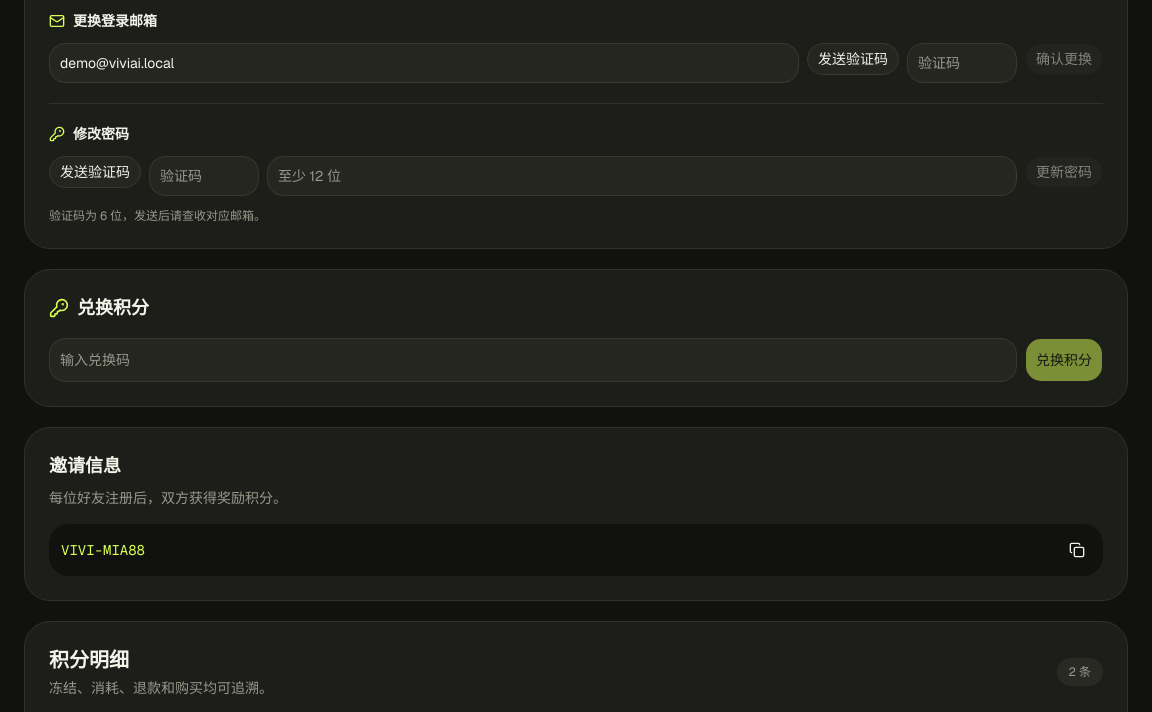
Test: account page › refreshes the baseline before submitting an edited code after an uncertain committed redemption
(page scrolled)
Type "A" into the field labelled "兑换码". click: (533, 360)
box: [49,338,1017,382]
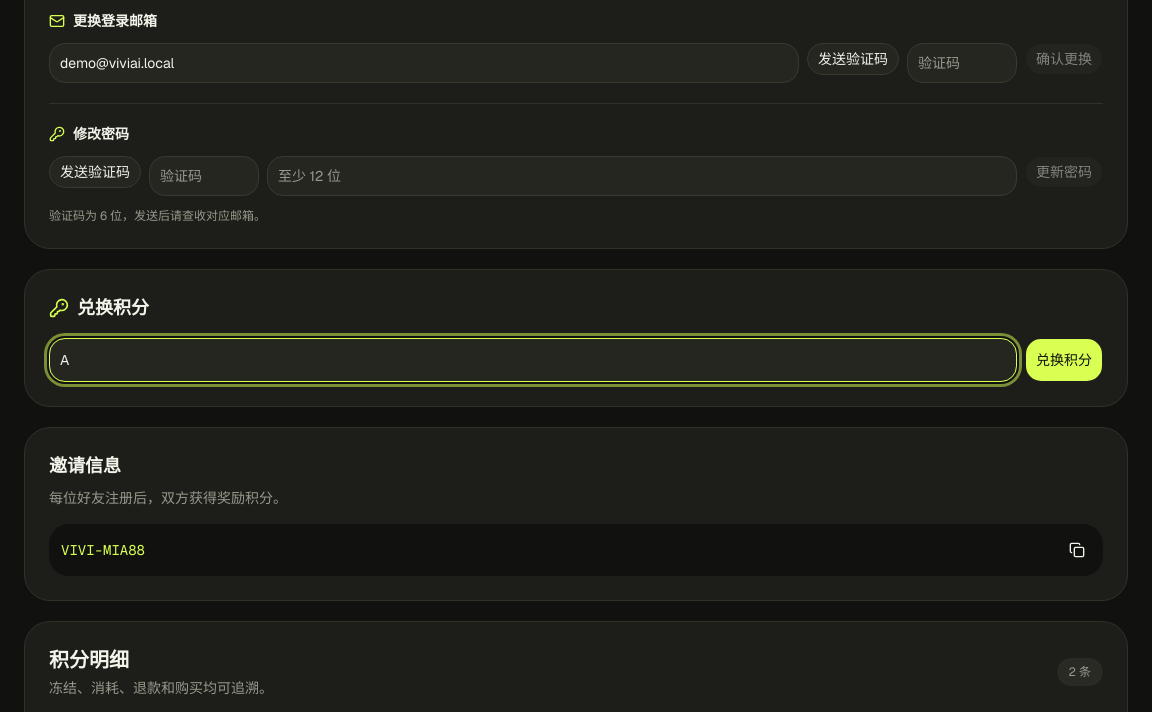
Click the button "兑换积分". click: (1064, 360)
box: [1025,338,1103,382]
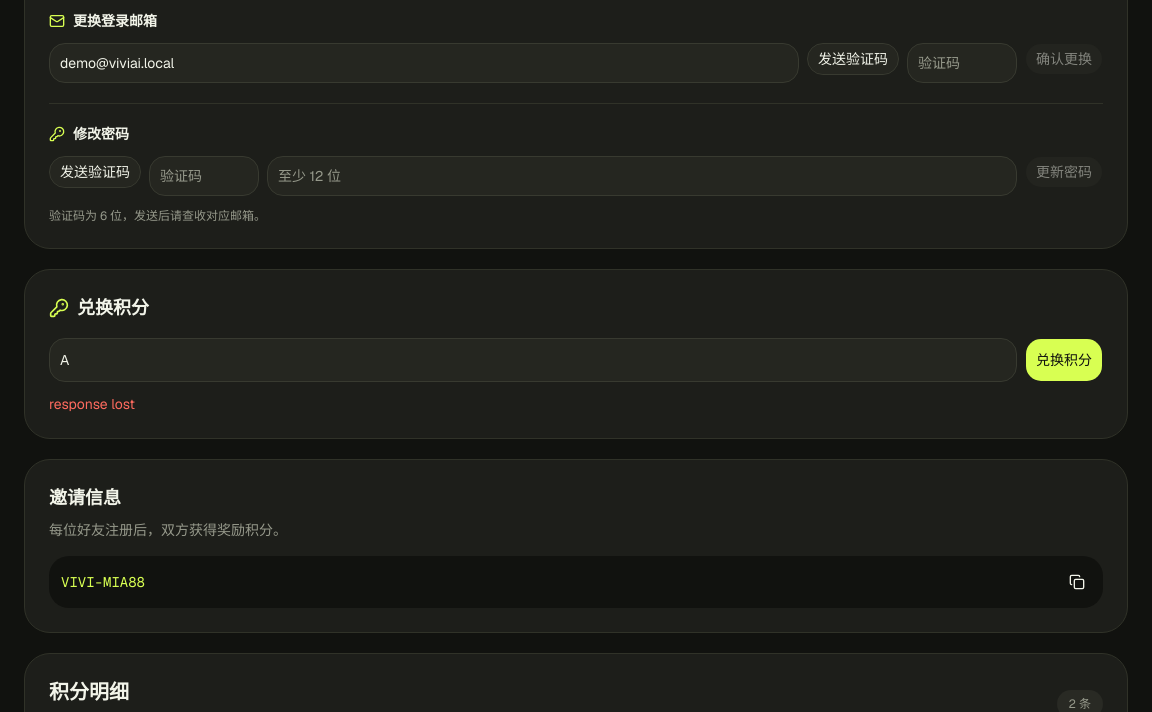
Expected: the text "response lost" is shown, [49,395,135,413]
Replace the text in the field named "兑换码" with "B". click: (533, 360)
box: [49,338,1017,382]
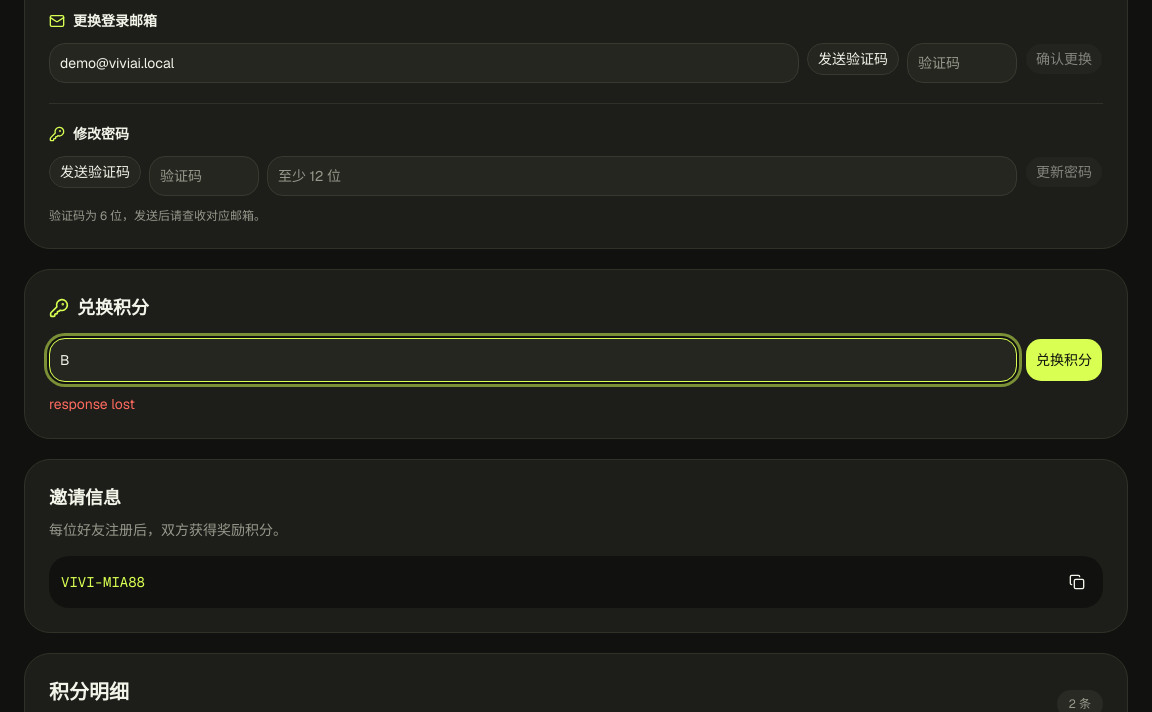
Click the button "兑换积分". click: (1064, 360)
box: [1025,338,1103,382]
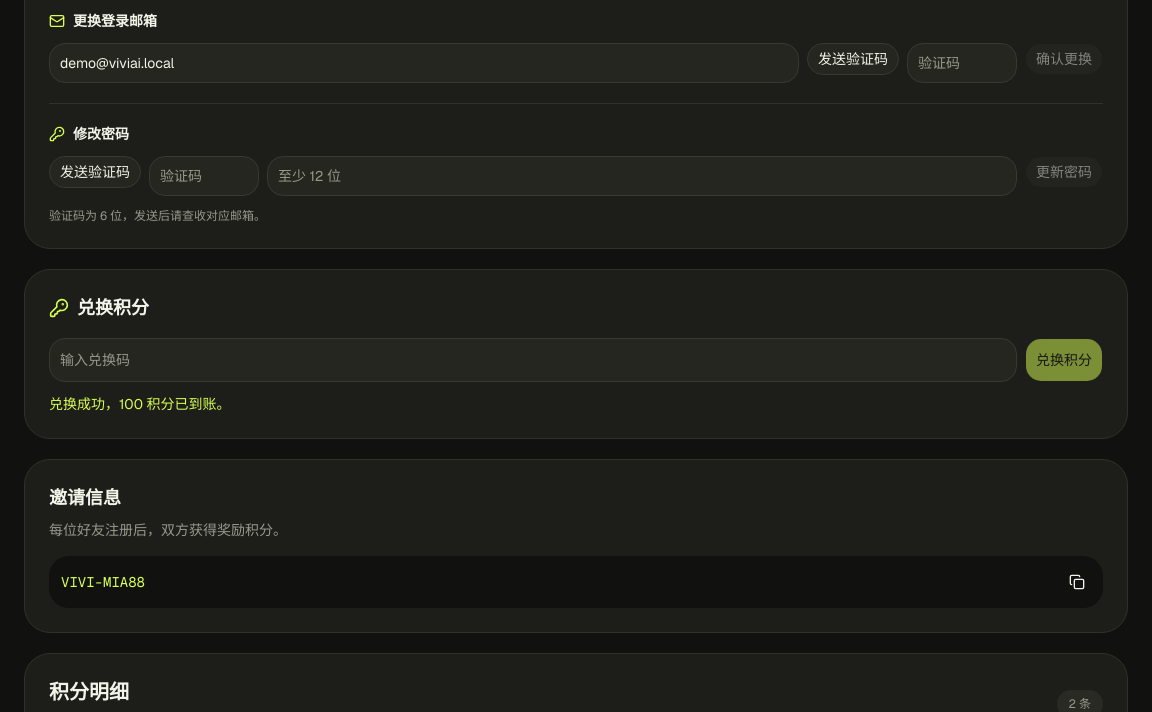
Expected: the text "兑换成功，100 积分已到账。" is shown, [49,395,230,413]
